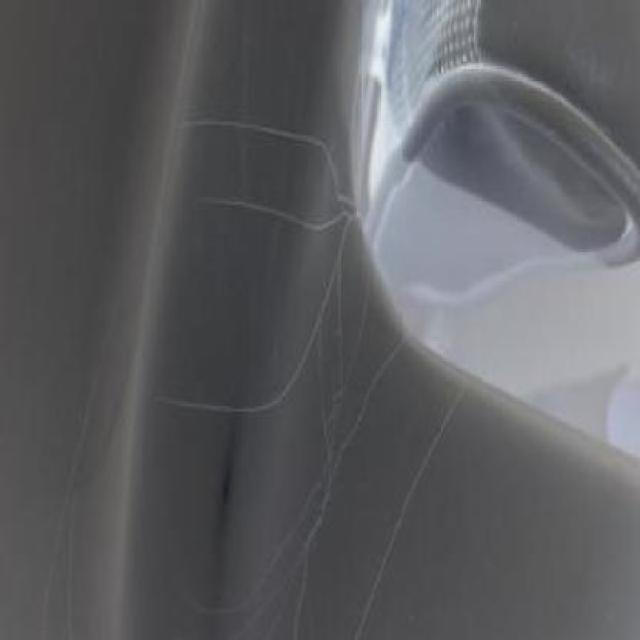crack: (217, 112, 379, 183), (225, 197, 354, 246), (164, 366, 259, 428)
